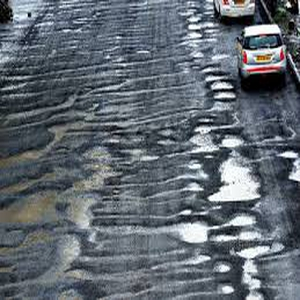pothole: (212, 154, 260, 204), (5, 192, 65, 230), (179, 219, 210, 246), (233, 245, 280, 259), (211, 81, 236, 101), (230, 214, 260, 228), (188, 20, 222, 32)
